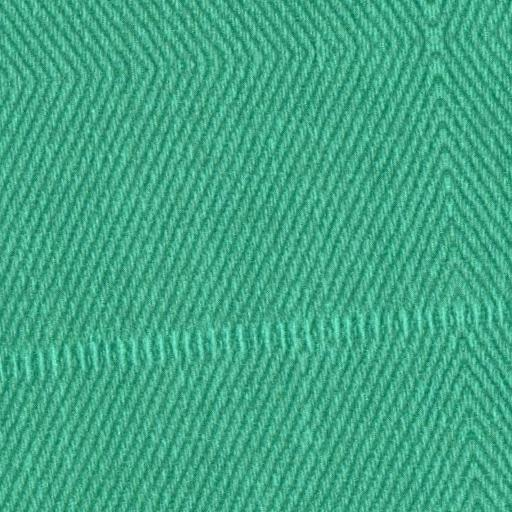slub: (0, 292, 512, 392)
